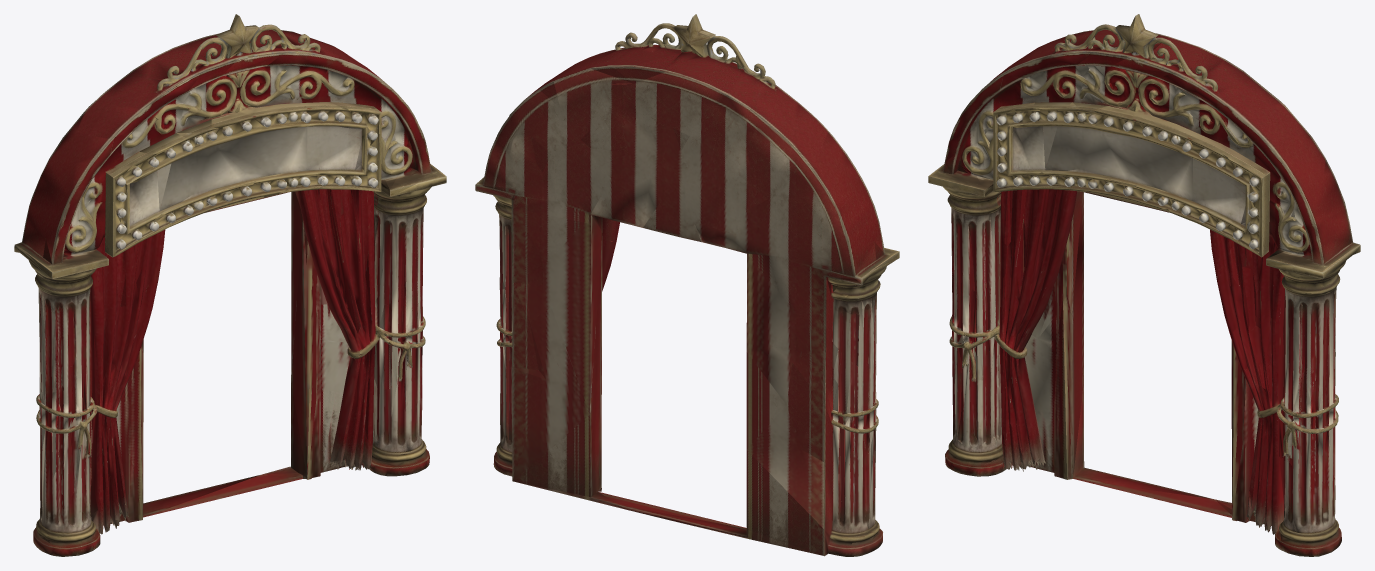
File: EntreeChapiteau.fbx
The picture shows the model from 3 angles, left to right: view 1: azimuth 30°, elevation 25°; view 2: azimuth 150°, elevation 25°; view 3: azimuth 330°, elevation 25°; orthographic projection.
Parts seen in each view (by area): view 1: Mesh_0; view 2: Mesh_0; view 3: Mesh_0.
Part boxes in pixels (x1,y1,x2,y2): Mesh_0: (14, 14, 446, 556); Mesh_0: (475, 14, 899, 556); Mesh_0: (928, 14, 1360, 556).
Bounding box in the file's own units: 159 × 190 × 27.32.
Materials: 1 (1 with a texture image).
